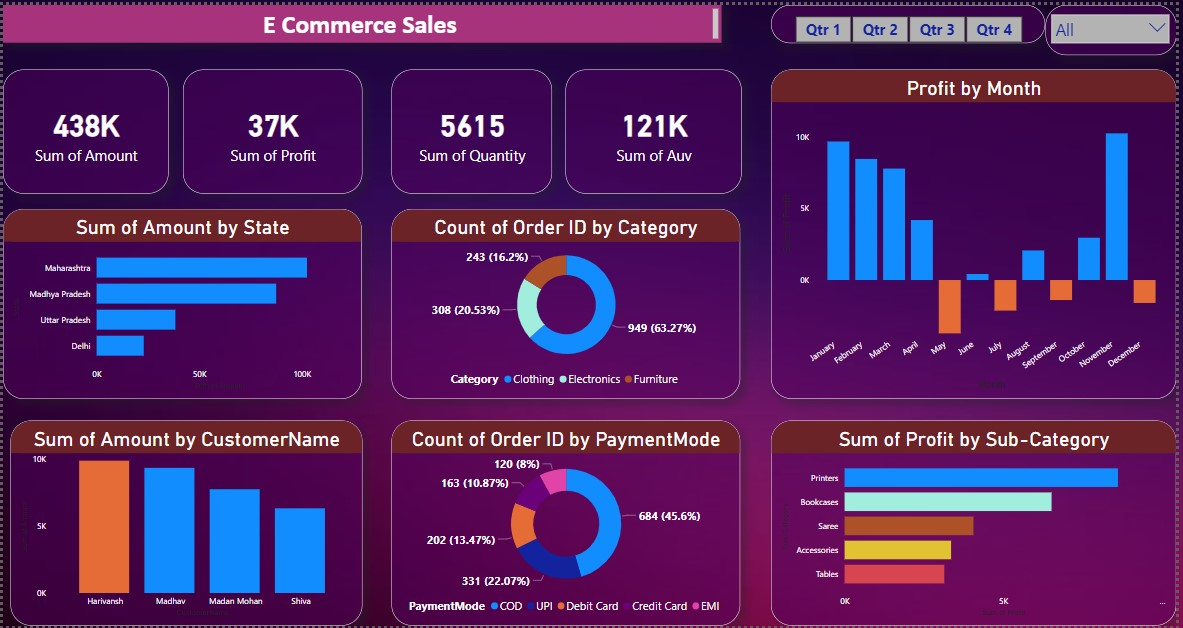

The page's visual inventory and layout, read from the dashboard file:
{"tool":"powerbi","page":{"name":"Duplicate of Page 1","canvas":[1700,900],"ordinal":1},"visuals":[{"type":"textbox","box":[0,0,1041.6,54.6],"z":0},{"type":"columnChart","title":"Profit by Month","fields":{"Category":["Orders.Order Date.Variation.Date Hierarchy.Month"],"Y":["Details.Profit"]},"box":[1112.5,92.5,587.5,477.5],"z":1000},{"type":"clusteredBarChart","fields":{"Category":["Details.Sub-Category"],"Y":["Details.Profit"]},"box":[1112.5,602.5,587.5,297.5],"z":2000},{"type":"donutChart","fields":{"Y":["Details.Order ID"],"Category":["Details.Category"]},"box":[562.5,295,505,275],"z":3000},{"type":"donutChart","fields":{"Y":["Details.Order ID"],"Category":["Details.PaymentMode"]},"box":[562.5,602.5,505,297.5],"z":4000},{"type":"card","fields":{"Values":["Details.Amount"]},"box":[0,92.5,240,180],"z":5000},{"type":"card","fields":{"Values":["Details.Profit"]},"box":[260,92.5,260,180],"z":6000},{"type":"card","fields":{"Values":["Details.Quantity"]},"box":[562.5,92.5,232.5,180],"z":7000},{"type":"card","fields":{"Values":["Details.Auv"]},"box":[815,92.5,255,180],"z":8000},{"type":"clusteredBarChart","fields":{"Category":["Orders.State"],"Y":["Details.Amount"]},"box":[0,295,520,275],"z":8001},{"type":"columnChart","fields":{"Category":["Orders.CustomerName"],"Y":["Details.Amount"]},"box":[10,602.5,510,297.5],"z":8002},{"type":"slicer","fields":{"Values":["Orders.Order Date.Variation.Date Hierarchy.Quarter"]},"box":[1112.5,0,397.5,55],"z":8003},{"type":"slicer","fields":{"Values":["Orders.State"]},"box":[1510,0,190,72.5],"z":8004}]}

Visuals, with their boxes in screenshot pixels (x1, y1, x2, y2), scaled from the page's 1700x900 canvas onto the 1183x628 screenshot:
textbox: (0, 0, 725, 38)
"Profit by Month" columnChart: (774, 65, 1182, 398)
clusteredBarChart - Details.Sub-Category x Details.Profit: (774, 420, 1182, 627)
donutChart - Details.Order ID x Details.Category: (391, 206, 743, 398)
donutChart - Details.Order ID x Details.PaymentMode: (391, 420, 743, 627)
card - Details.Amount: (0, 65, 167, 190)
card - Details.Profit: (181, 65, 362, 190)
card - Details.Quantity: (391, 65, 553, 190)
card - Details.Auv: (567, 65, 745, 190)
clusteredBarChart - Orders.State x Details.Amount: (0, 206, 362, 398)
columnChart - Orders.CustomerName x Details.Amount: (7, 420, 362, 627)
slicer - Orders.Order Date.Variation.Date Hierarchy.Quarter: (774, 0, 1051, 38)
slicer - Orders.State: (1051, 0, 1182, 51)
